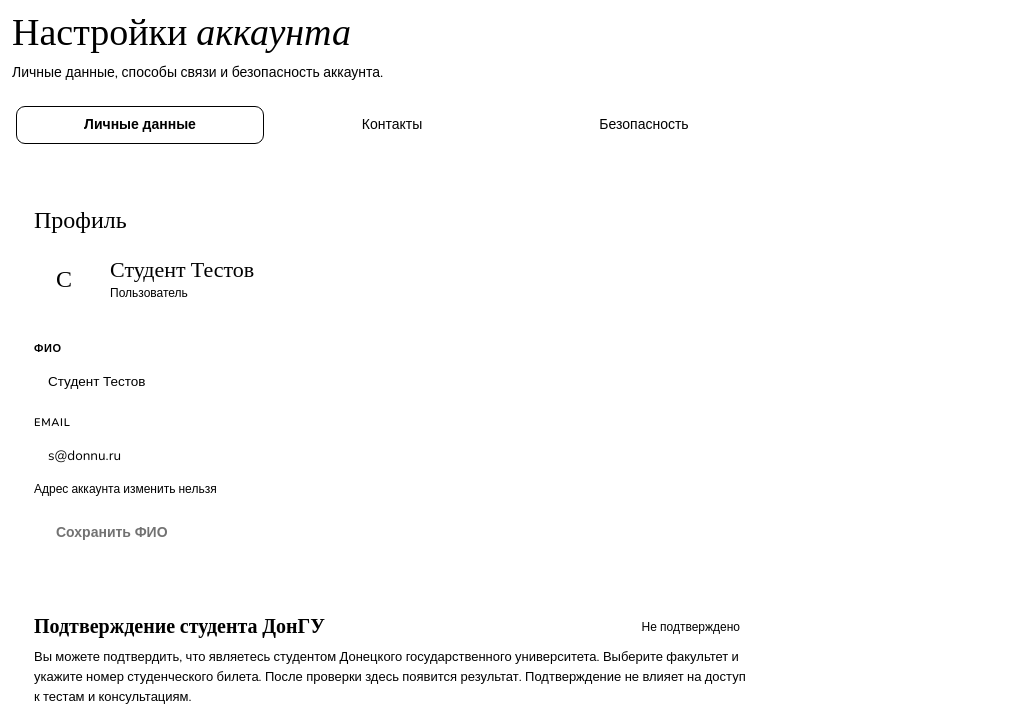
разделы настроек › ФИО и телефон сохраняются раздельно — каждый шлёт только свой ключ
This screenshot has width=1036, height=720.
Replace the text in the field labelled "ФИО" with "Иван Иванов" at (392, 382), box x1=34 y1=362 x2=750 y2=401
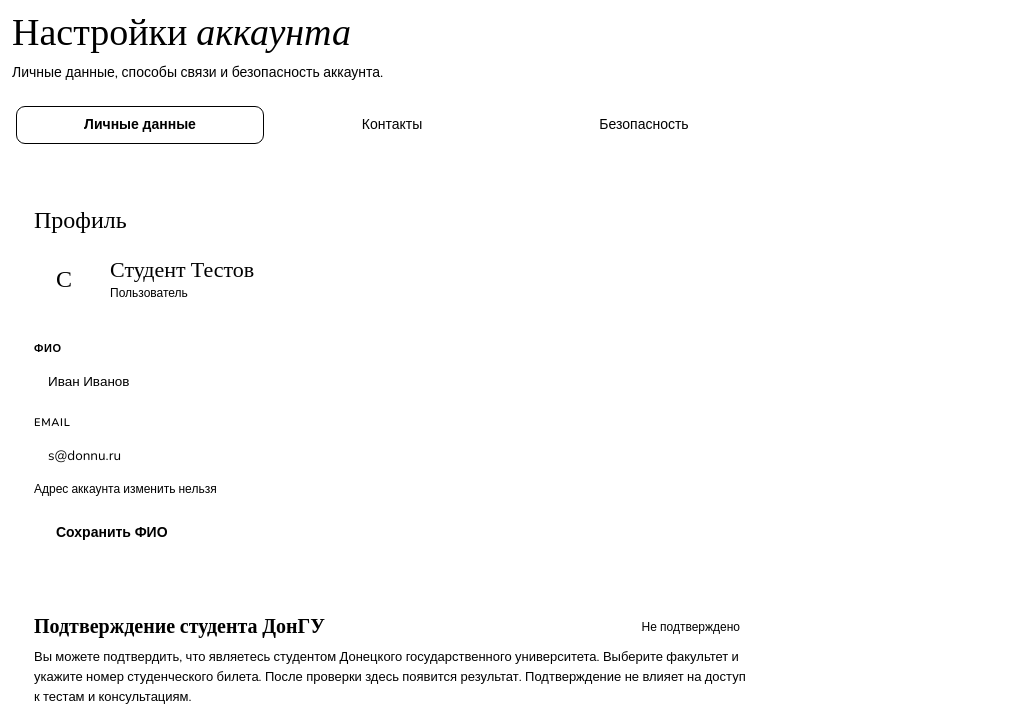
Click the button "Сохранить ФИО" at (112, 533), box x1=34 y1=513 x2=190 y2=553
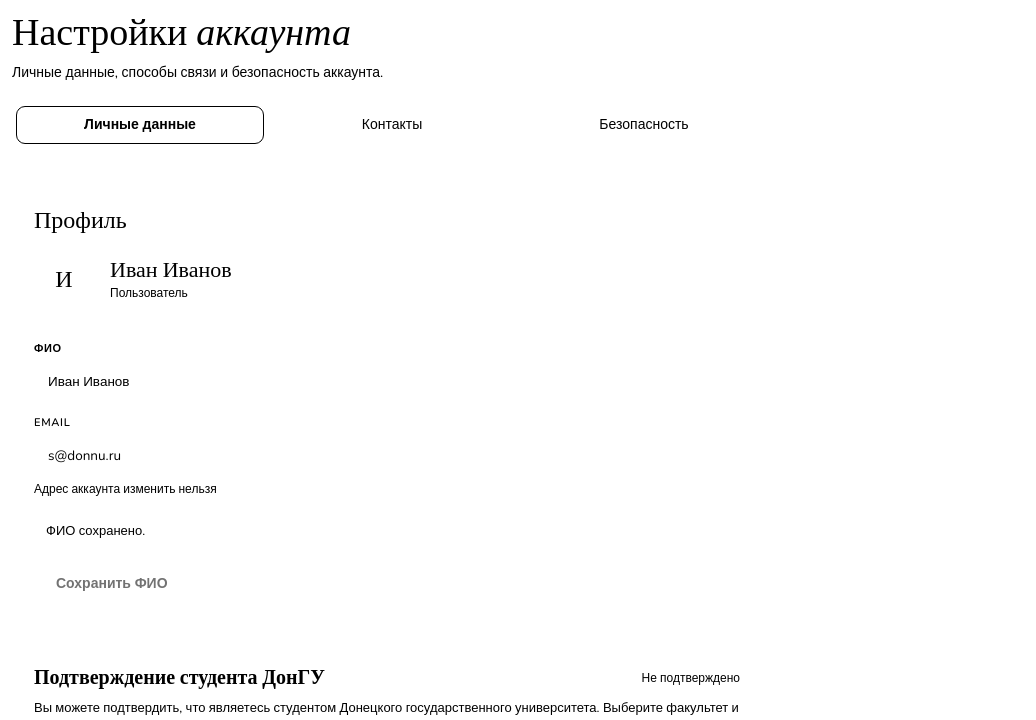
Now the text "ФИО сохранено." is shown, box x1=46 y1=522 x2=145 y2=540
Click the tab "Контакты" at (392, 125), box x1=268 y1=106 x2=516 y2=144
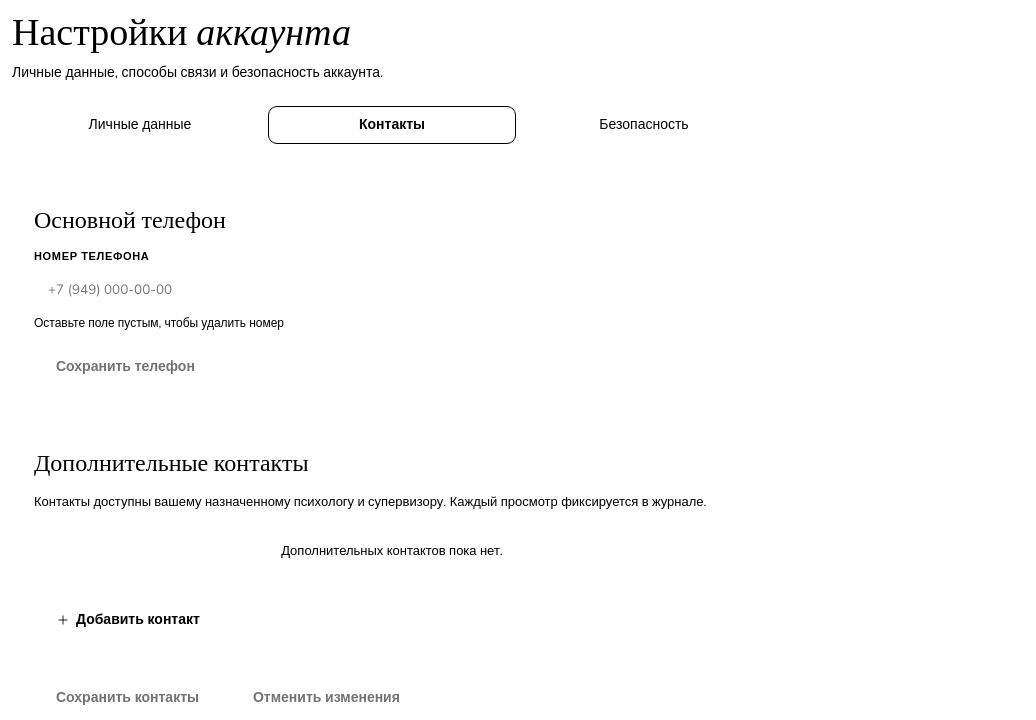
Type "9491234567" into the field labelled "Номер телефона" at (392, 290), box x1=34 y1=270 x2=750 y2=309
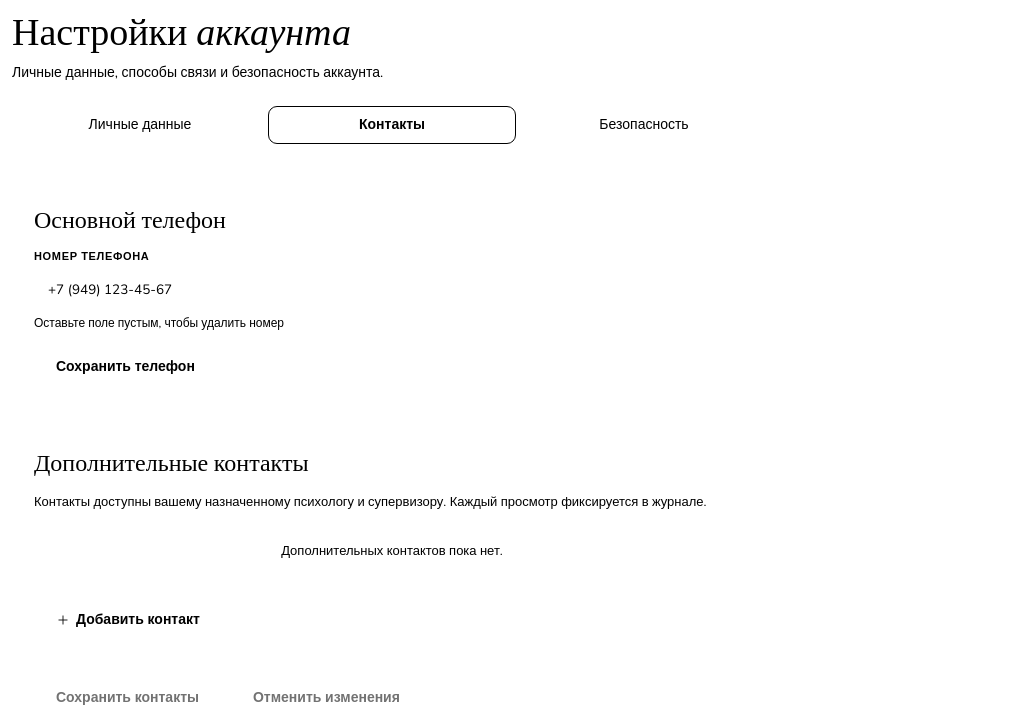
Click the button "Сохранить телефон" at (125, 367), box x1=34 y1=347 x2=217 y2=387
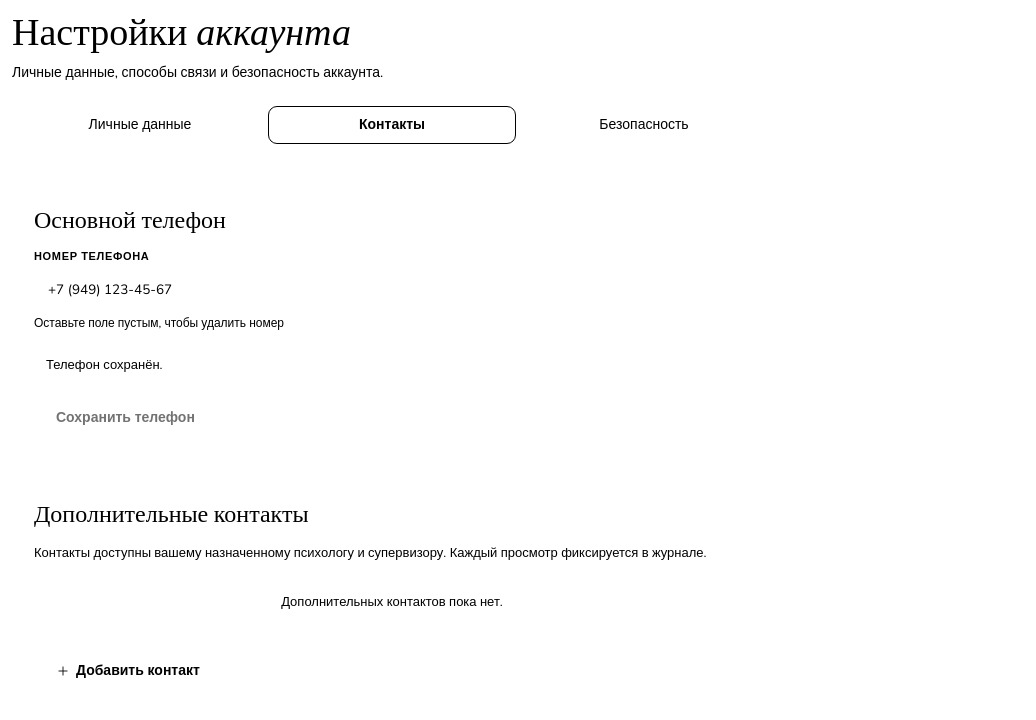
Now the text "Телефон сохранён." is shown, box x1=46 y1=356 x2=162 y2=374
